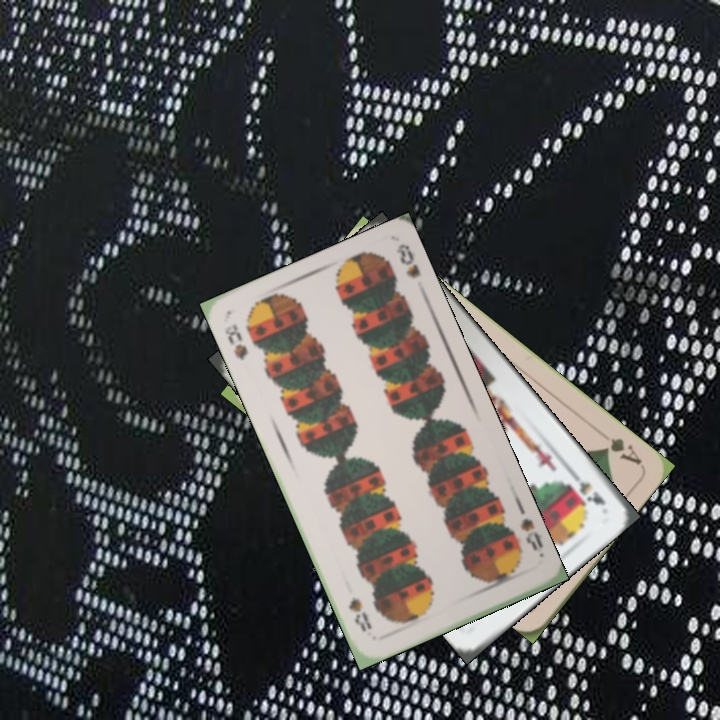GA: (597, 433, 645, 468)
S8: (221, 320, 251, 363), (516, 514, 546, 554)
SK: (563, 464, 608, 508)
